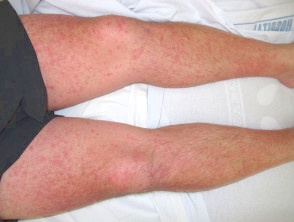SJS-TEN: (0, 103, 294, 221), (18, 1, 294, 114)
